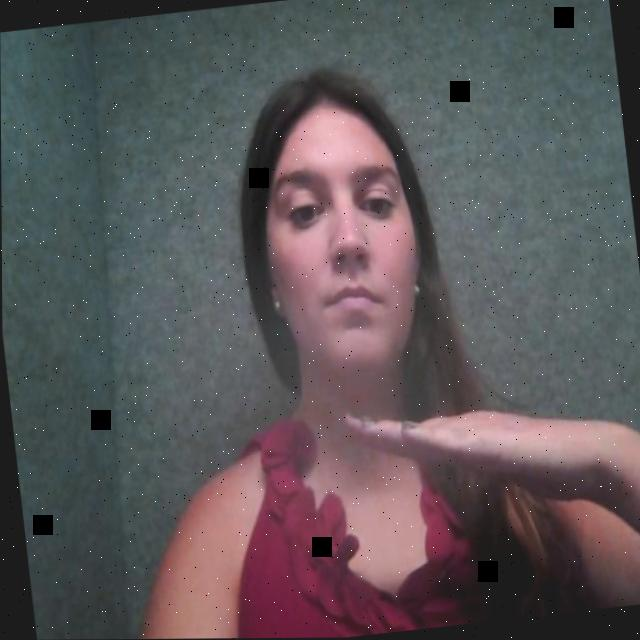Paper: (339, 368, 606, 537)
